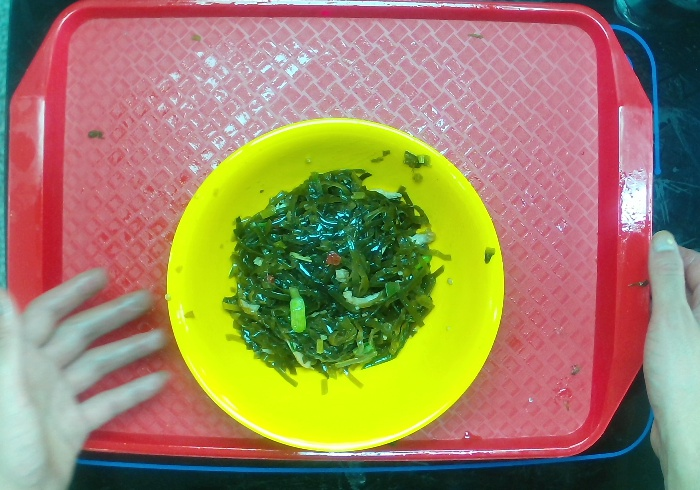YKMZ-Huang_Se_Tang_Wan: (156, 103, 511, 455)
